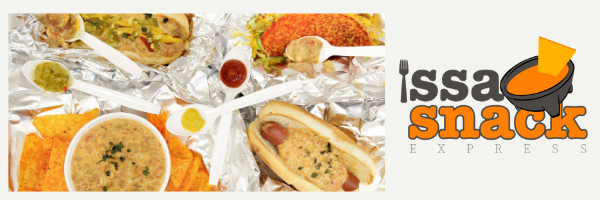soup: (247, 101, 378, 192)
sushi: (64, 110, 172, 192), (21, 59, 72, 94)
